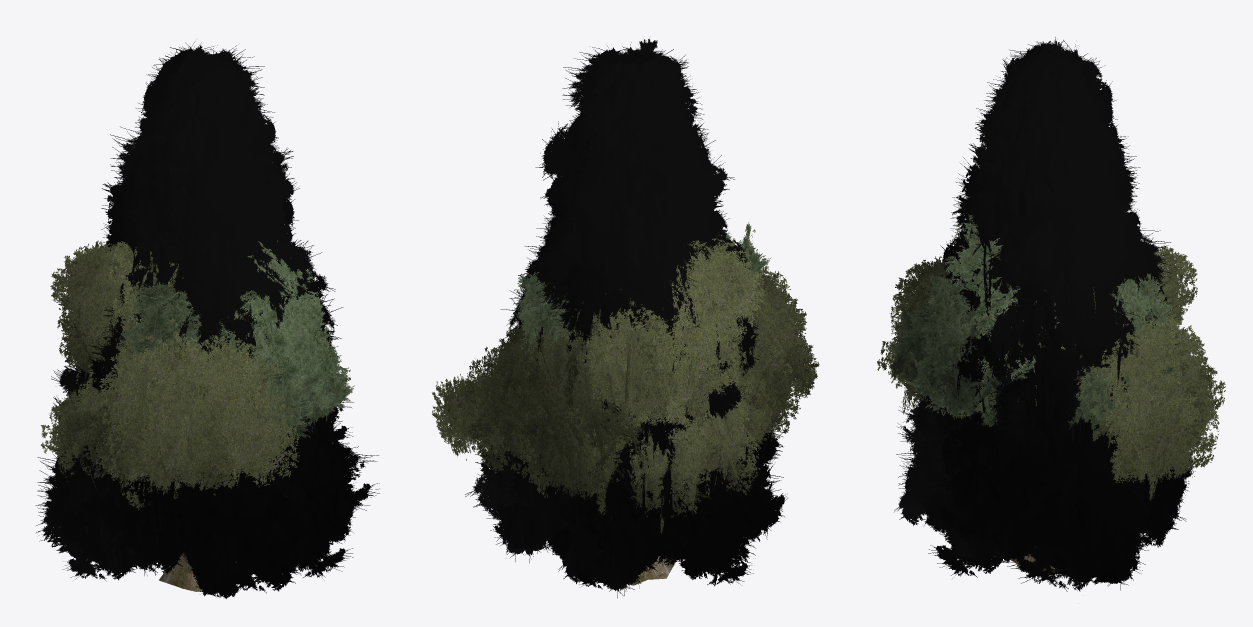
The model's file is trees.glb.
The picture shows the model from 3 angles, left to right: view 1: azimuth 30°, elevation 25°; view 2: azimuth 150°, elevation 25°; view 3: azimuth 270°, elevation 25°; orthographic projection. The views are drawn at different scales.
Visible parts, largest first — view 1: tree_fir_leaves, tree_fir_leaves_far, tree_oak_leaves_far, tree_oak_leaves, tree_ash_leaves_far, tree_ash_leaves, tree_fir_b_leaves, tree_oak_b_leaves_far, tree_fir_b_leaves_far, tree_oak_b_leaves, tree_oak_bark; view 2: tree_fir_leaves_far, tree_oak_leaves_far, tree_fir_leaves, tree_oak_leaves, tree_oak_b_leaves_far, tree_oak_b_leaves, tree_fir_b_leaves, tree_fir_b_leaves_far, tree_ash_leaves, tree_ash_leaves_far; view 3: tree_fir_leaves_far, tree_fir_leaves, tree_oak_leaves_far, tree_ash_leaves_far, tree_ash_leaves, tree_oak_leaves, tree_fir_b_leaves_far, tree_fir_b_leaves.
Boxes of the visible parts, x1=… form: tree_fir_leaves: x1=52, y1=42, x2=357, y2=581; tree_fir_leaves_far: x1=35, y1=41, x2=379, y2=593; tree_oak_leaves_far: x1=50, y1=239, x2=302, y2=495; tree_oak_leaves: x1=64, y1=243, x2=296, y2=488; tree_ash_leaves_far: x1=121, y1=240, x2=350, y2=439; tree_ash_leaves: x1=143, y1=249, x2=354, y2=428; tree_fir_b_leaves: x1=76, y1=265, x2=331, y2=598; tree_oak_b_leaves_far: x1=40, y1=336, x2=183, y2=510; tree_fir_b_leaves_far: x1=62, y1=257, x2=353, y2=581; tree_oak_b_leaves: x1=56, y1=388, x2=168, y2=493; tree_oak_bark: x1=159, y1=553, x2=236, y2=591; tree_fir_leaves_far: x1=465, y1=38, x2=783, y2=598; tree_oak_leaves_far: x1=432, y1=234, x2=819, y2=498; tree_fir_leaves: x1=481, y1=47, x2=787, y2=582; tree_oak_leaves: x1=437, y1=241, x2=808, y2=468; tree_oak_b_leaves_far: x1=526, y1=367, x2=785, y2=533; tree_oak_b_leaves: x1=547, y1=355, x2=771, y2=512; tree_fir_b_leaves: x1=504, y1=418, x2=732, y2=589; tree_fir_b_leaves_far: x1=482, y1=283, x2=769, y2=586; tree_ash_leaves: x1=496, y1=242, x2=771, y2=365; tree_ash_leaves_far: x1=498, y1=222, x2=758, y2=385; tree_fir_leaves_far: x1=894, y1=37, x2=1189, y2=591; tree_fir_leaves: x1=899, y1=53, x2=1195, y2=576; tree_oak_leaves_far: x1=877, y1=235, x2=1225, y2=500; tree_ash_leaves_far: x1=886, y1=211, x2=1174, y2=437; tree_ash_leaves: x1=889, y1=228, x2=1174, y2=422; tree_oak_leaves: x1=886, y1=261, x2=1214, y2=478; tree_fir_b_leaves_far: x1=919, y1=242, x2=1186, y2=590; tree_fir_b_leaves: x1=922, y1=279, x2=1181, y2=569.
Size of the model in its own units: 12.33 by 19.32 by 12.15.
Materials: 5 (5 with a texture image).
